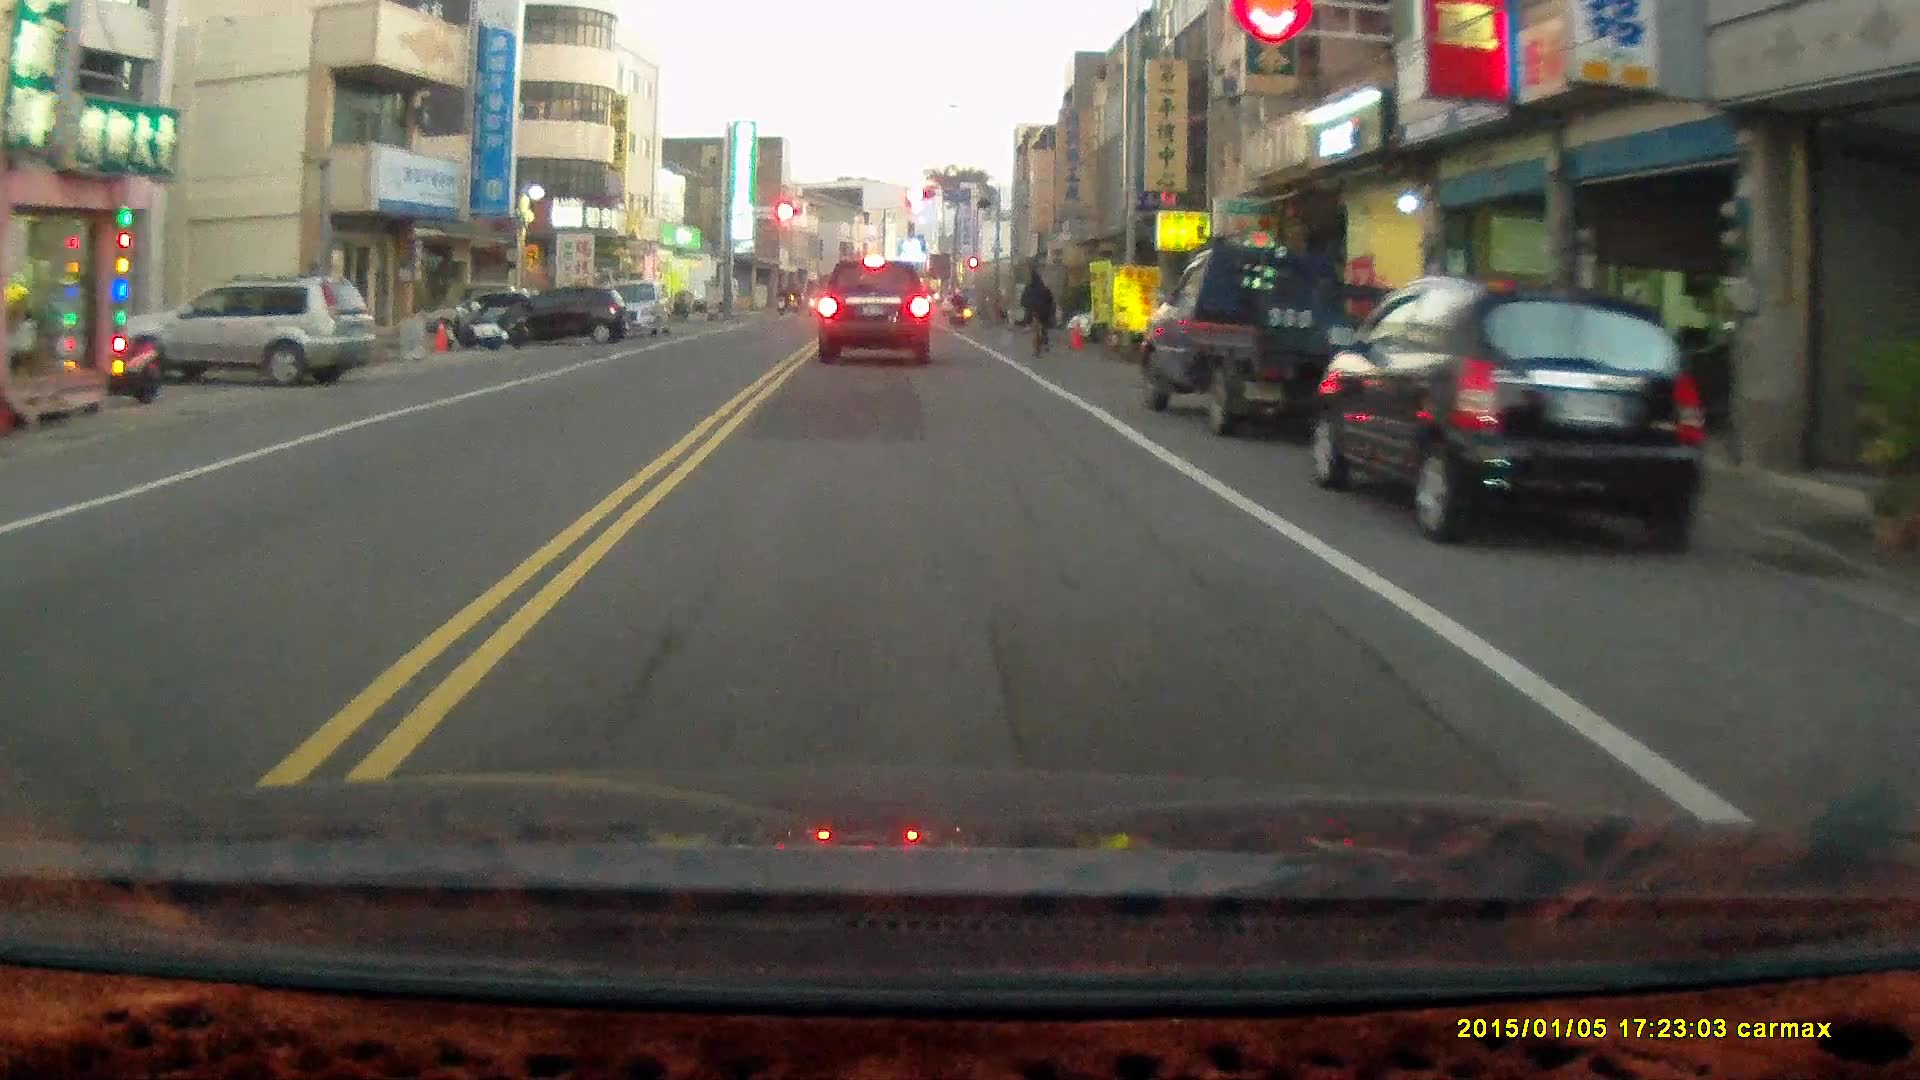rider: (1016, 266, 1059, 362)
vehicle: (1315, 274, 1709, 549), (1143, 245, 1404, 433), (118, 271, 380, 393), (816, 257, 933, 368), (493, 285, 629, 344), (584, 274, 674, 343)
